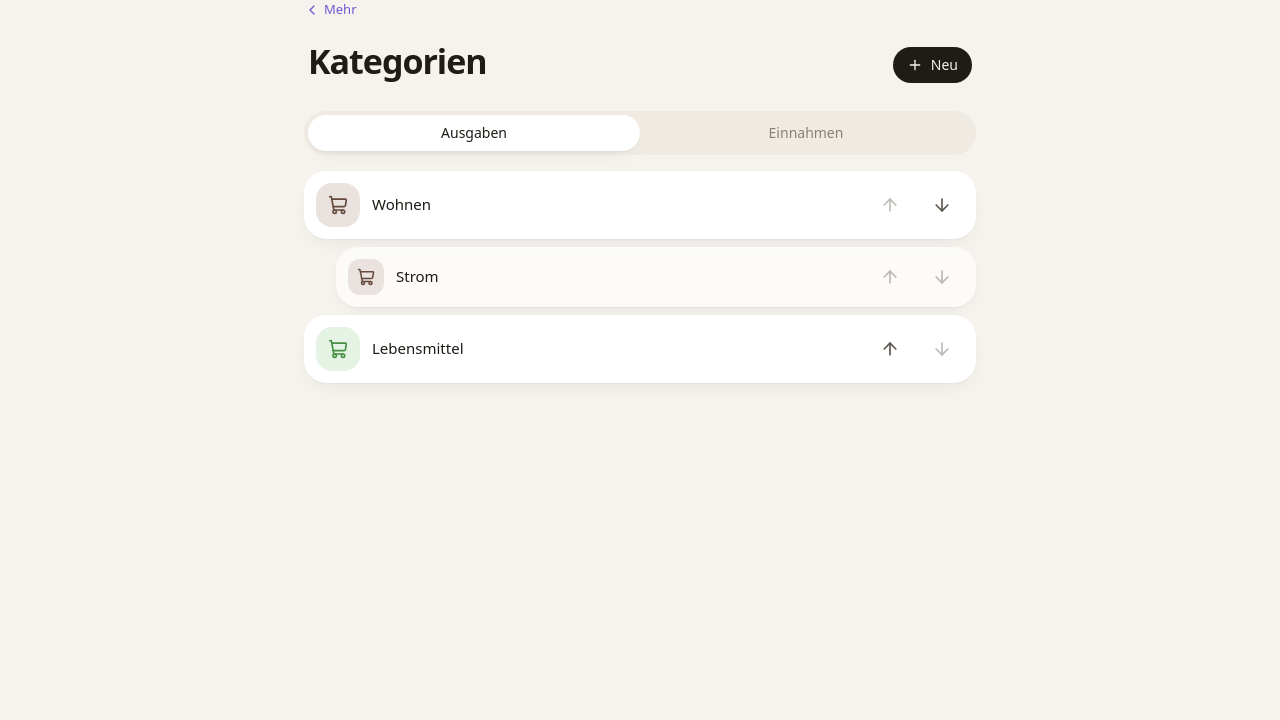
a subcategory can become a main category again
Later steps or results of the test are not shown.
What coordinates should you click on to do the following:
click the button "Strom"
I would click on:
 (366, 276)
Its box is [344,254,860,298].
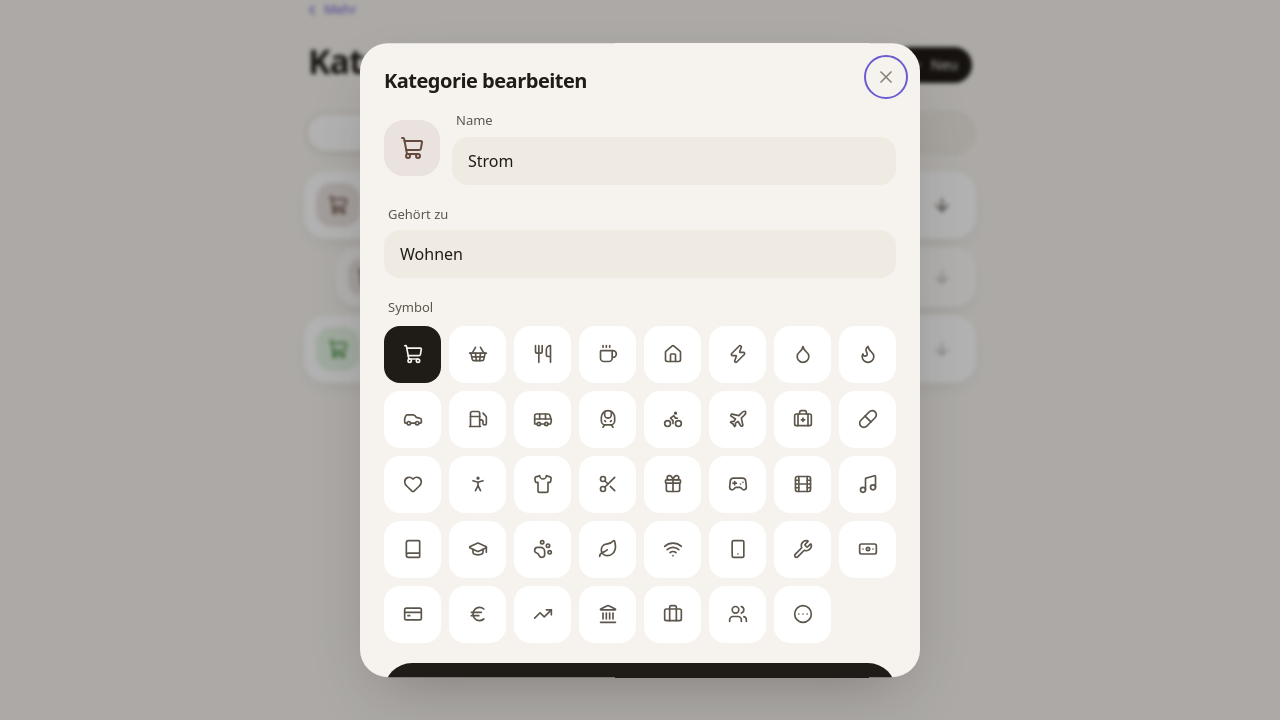
Check: the dropdown labelled "Gehört zu" shows "Wohnen", box [384,230,896,278]
